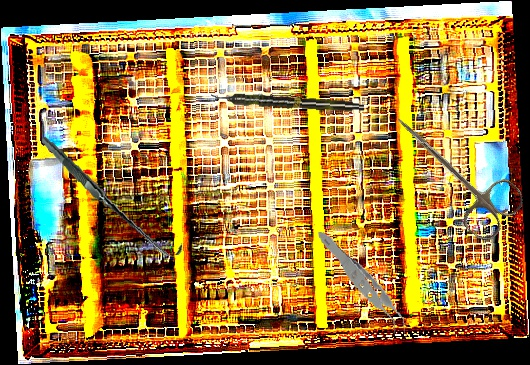Handpiece: (210, 90, 365, 114)
Hook Surgical: (41, 122, 184, 270)
Iris Scissors: (374, 98, 530, 246)
Tissue Forceps: (317, 220, 408, 352)
